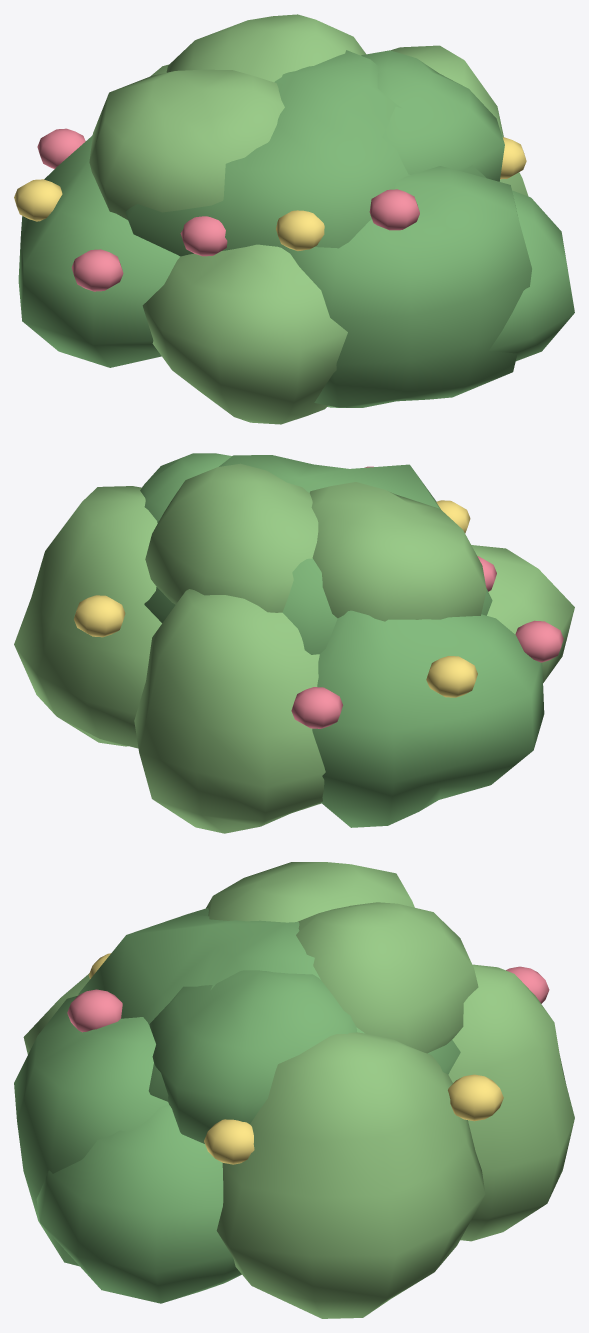
File: OW_FloweringShrub.fbx
3 renders of one model, top to bottom at view 1: azimuth 30°, elevation 25°; view 2: azimuth 150°, elevation 25°; view 3: azimuth 270°, elevation 25°, orthographic. The views are drawn at different scales.
Visible parts, largest first — view 1: OW_FloweringShrub; view 2: OW_FloweringShrub; view 3: OW_FloweringShrub.
Boxes of the visible parts, x1,y1,x2,y2 form: OW_FloweringShrub: (14,14,574,424); OW_FloweringShrub: (14,453,574,833); OW_FloweringShrub: (14,862,574,1318).
Size of the model in its own units: 1.38 by 0.8751 by 1.23.
